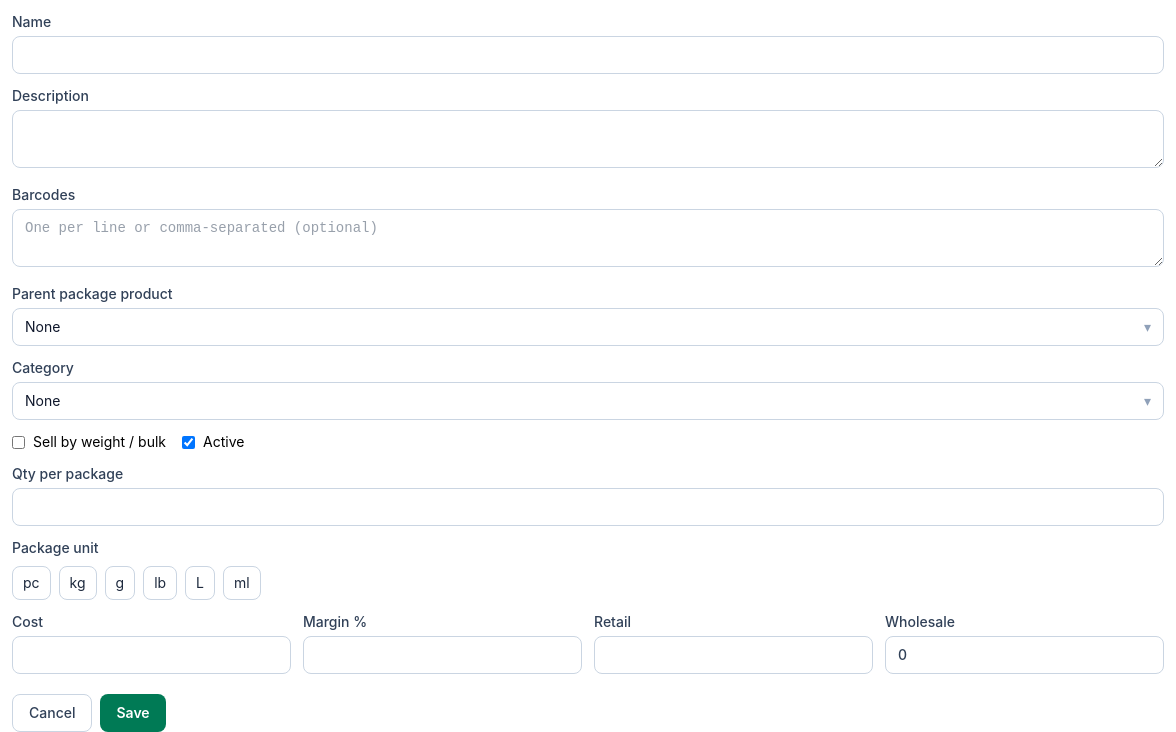
it: ProductEditorForm Feature 076 › hides child products from the parent package dropdown
What coordinates should you click on to do the following:
click the button with test id "product-parent"
I would click on:
 (43, 326)
Its box is [12, 308, 1164, 346].
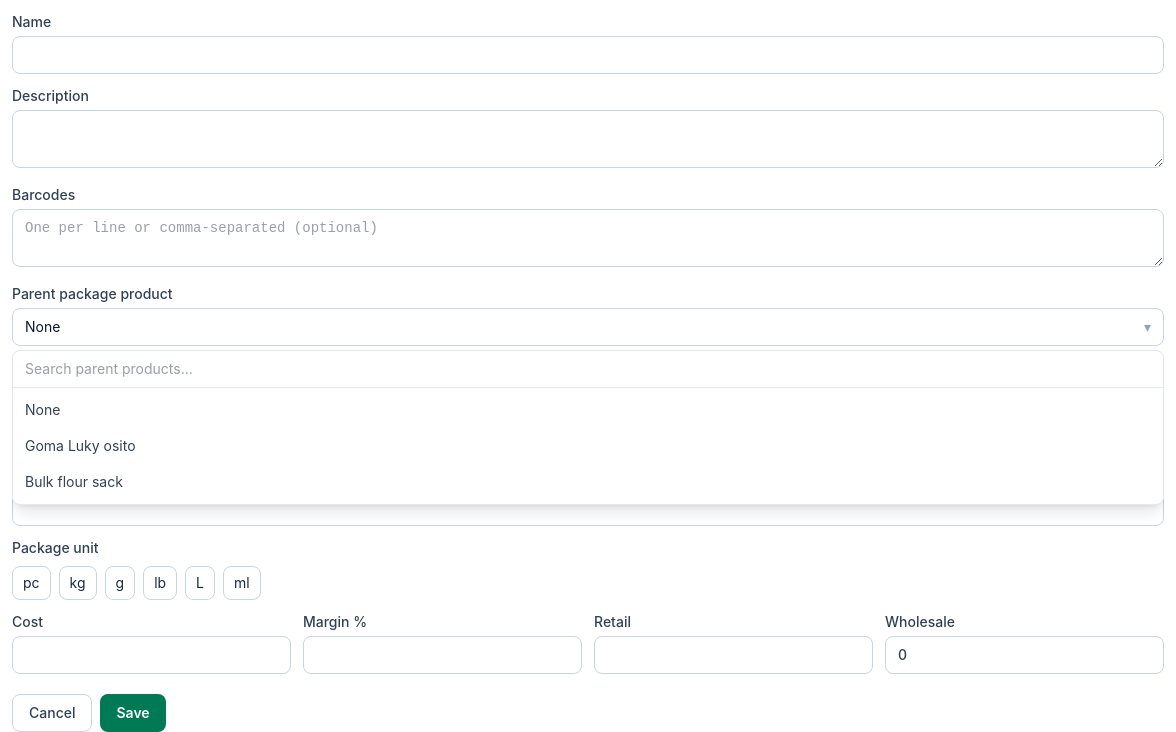
Result: the button "Goma Luky osito" is shown at [13, 428, 1163, 464]
